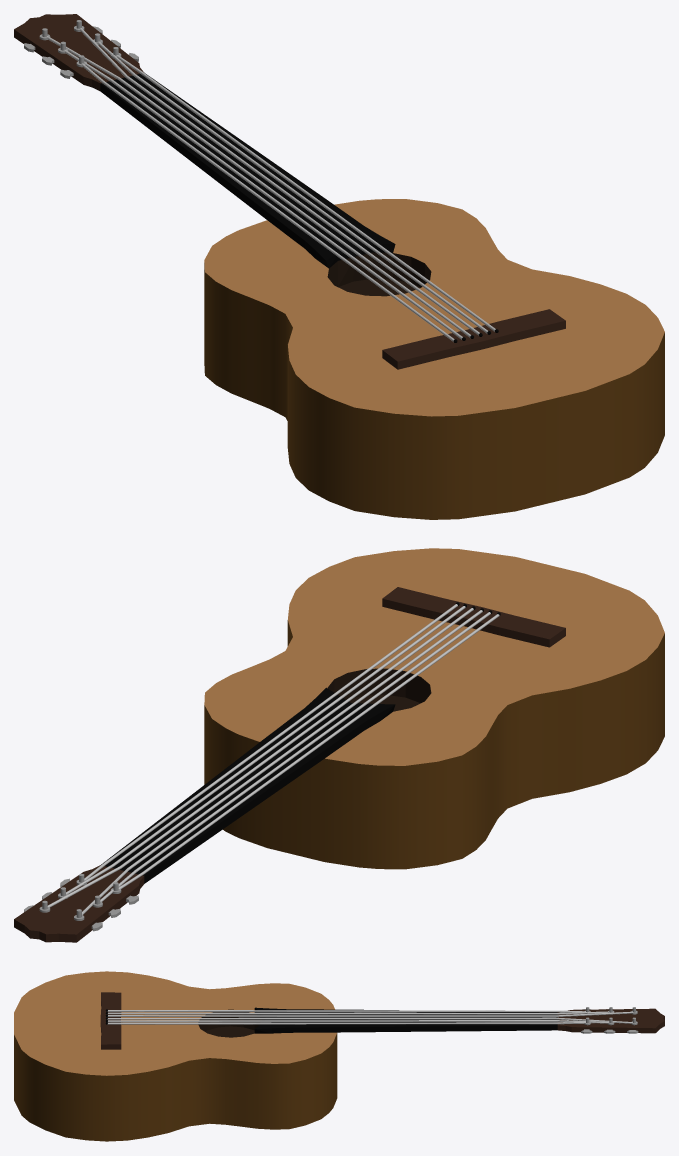
The model's file is Acoustic Guitar.fbx.
3 renders of one model, top to bottom at view 1: azimuth 30°, elevation 25°; view 2: azimuth 150°, elevation 25°; view 3: azimuth 270°, elevation 25°, orthographic. The views are drawn at different scales.
Visible parts, largest first — view 1: Guitar; view 2: Guitar; view 3: Guitar.
Part boxes in pixels (x1=…): Guitar: x1=14, y1=14, x2=664, y2=519; Guitar: x1=14, y1=548, x2=664, y2=942; Guitar: x1=14, y1=971, x2=664, y2=1141.
Bounding box in the file's own units: 188 × 63.97 × 494.
